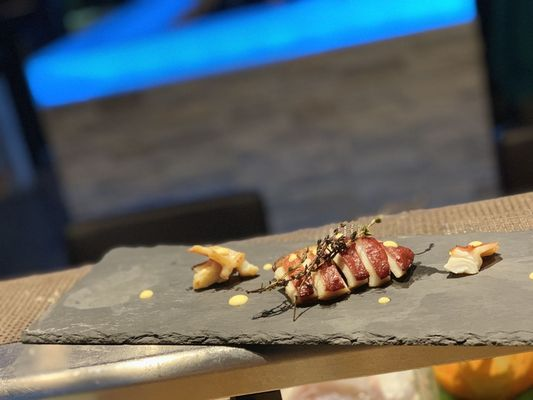burger: (267, 223, 419, 308)
curry: (0, 221, 532, 400)
